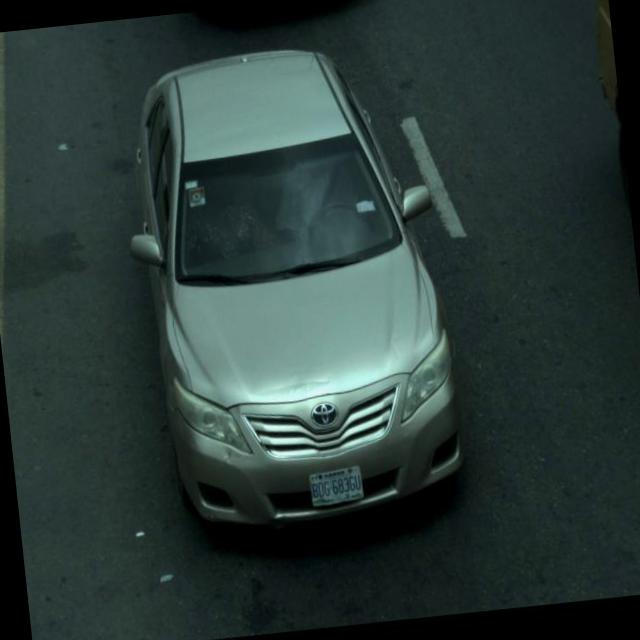person_with_seatbelt: (274, 138, 381, 244)
